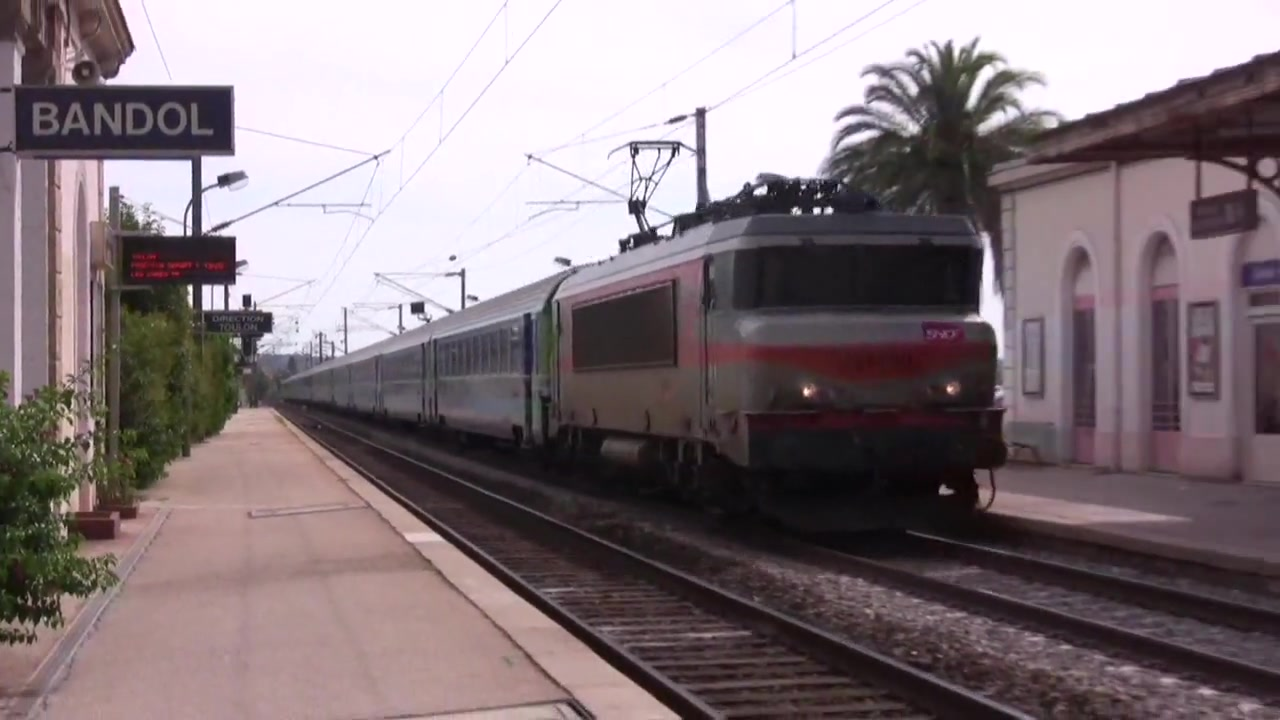train: (279, 175, 1013, 524)
